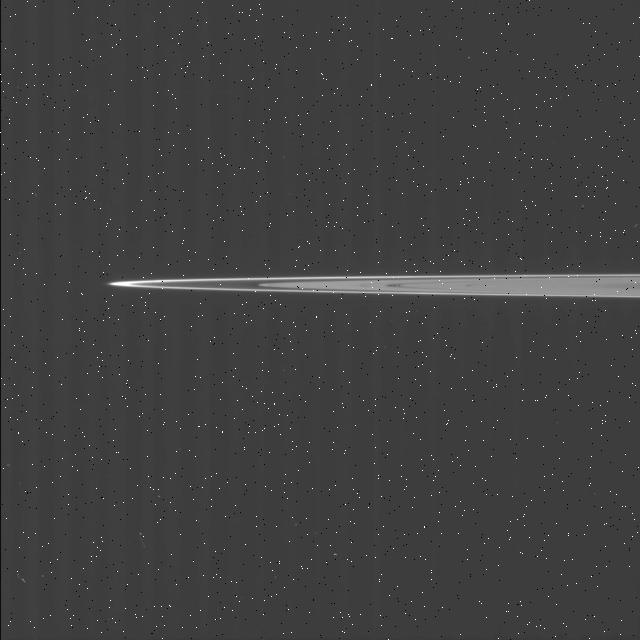Saturn: (104, 270, 640, 303)
